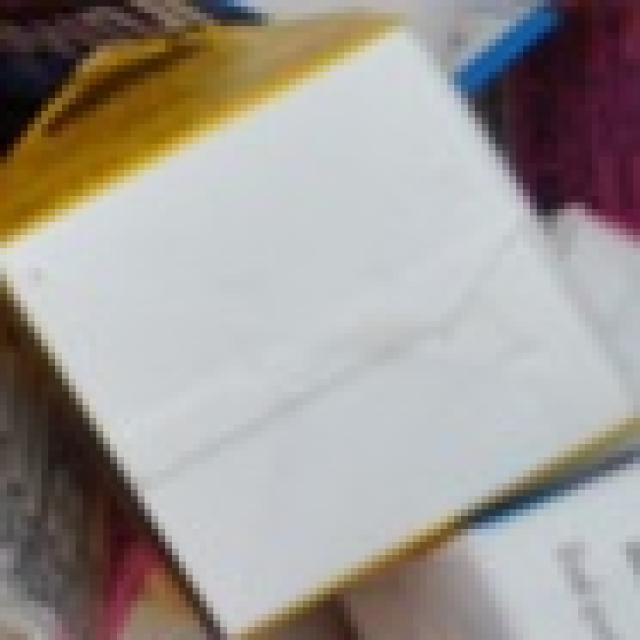drink carton: (15, 0, 640, 621)
